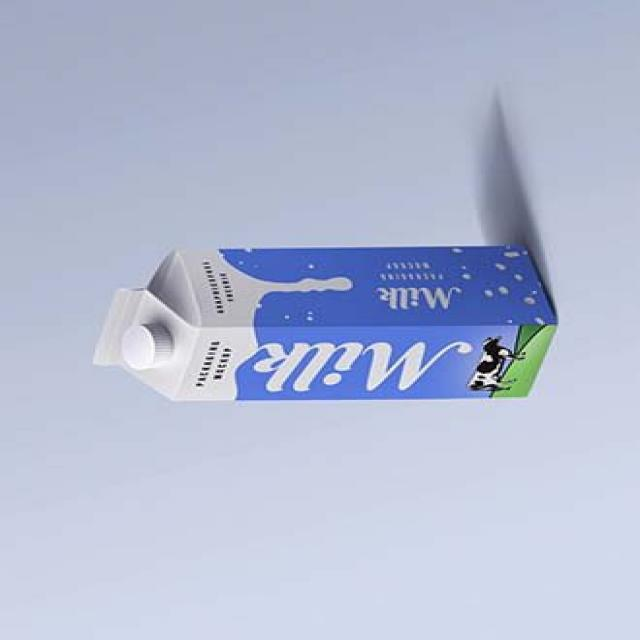non_white_jug: (95, 244, 561, 403)
